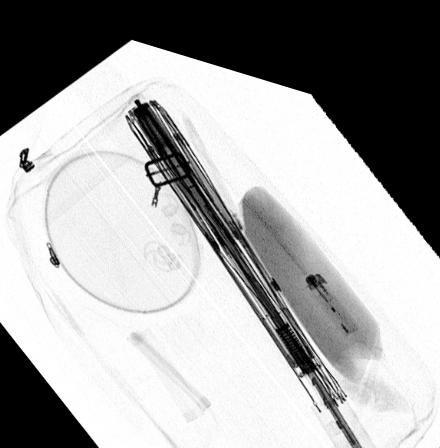Lighter: (299, 253, 359, 316)
